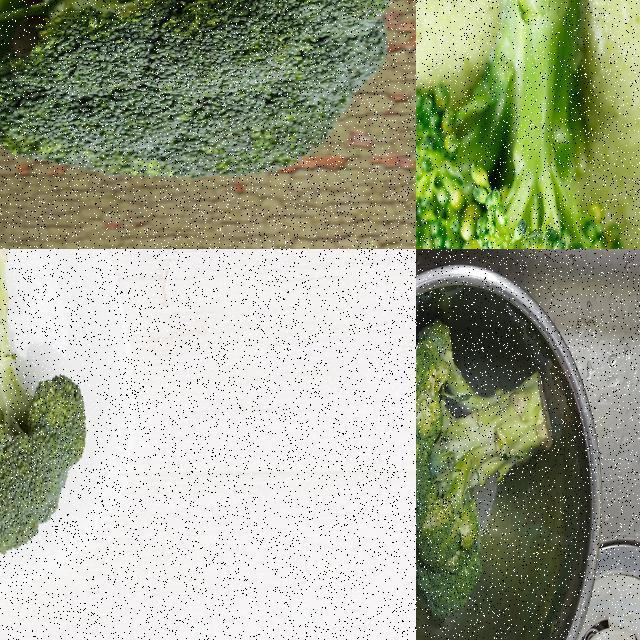broccoli: (0, 0, 401, 188), (416, 0, 635, 248), (416, 311, 553, 629), (0, 249, 90, 568)
